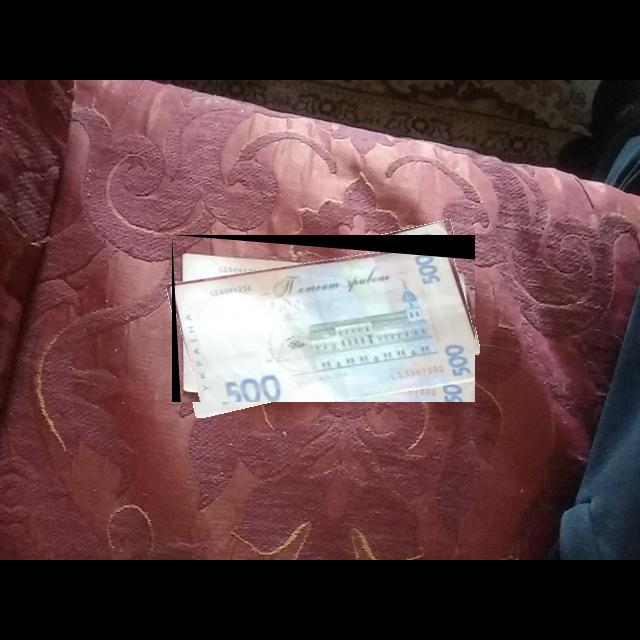500uah: (172, 235, 476, 403)
